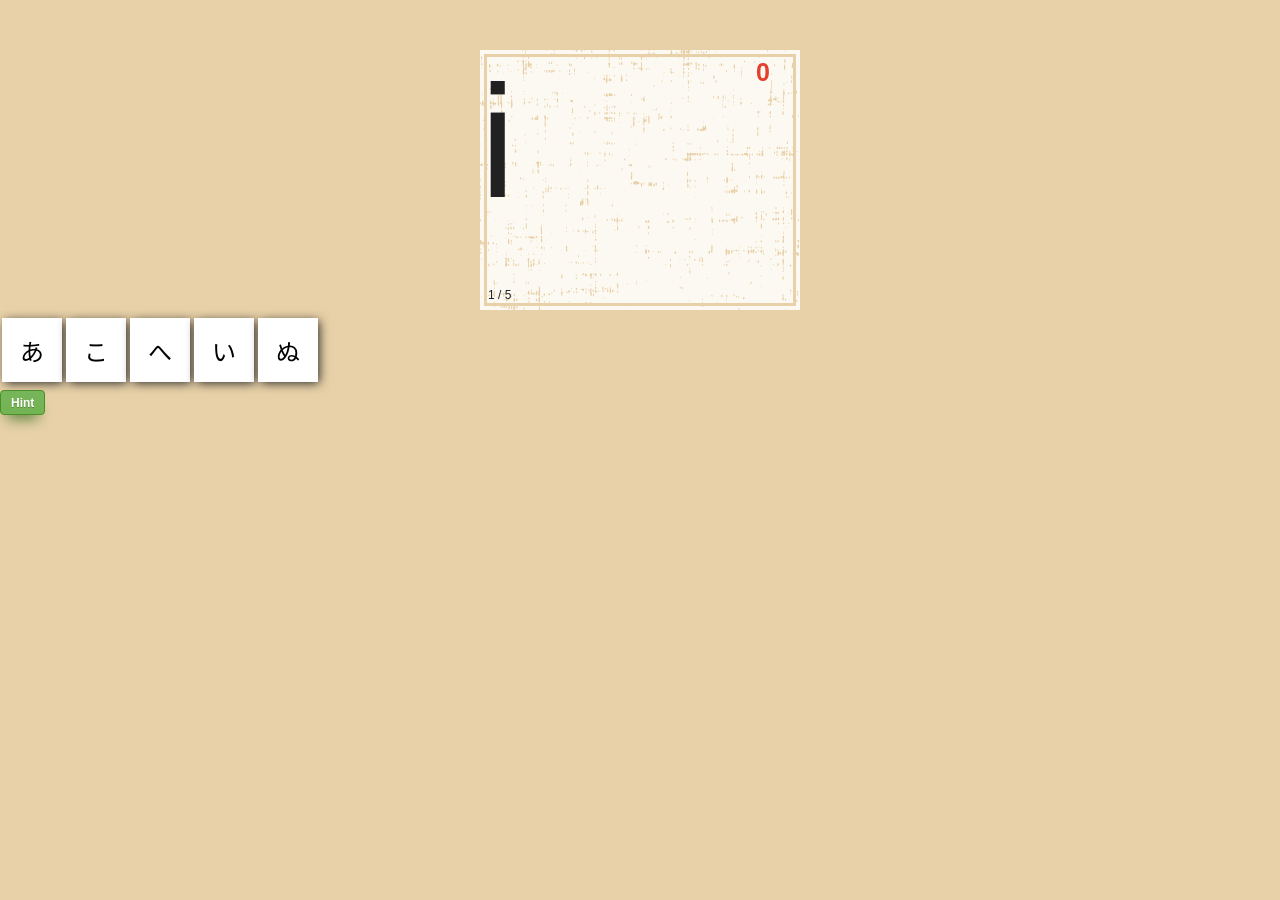
Test: Game page › reveals the correct answer after a wrong answer
Click the button "あ".
click(32, 350)  # box [2,318,62,382]
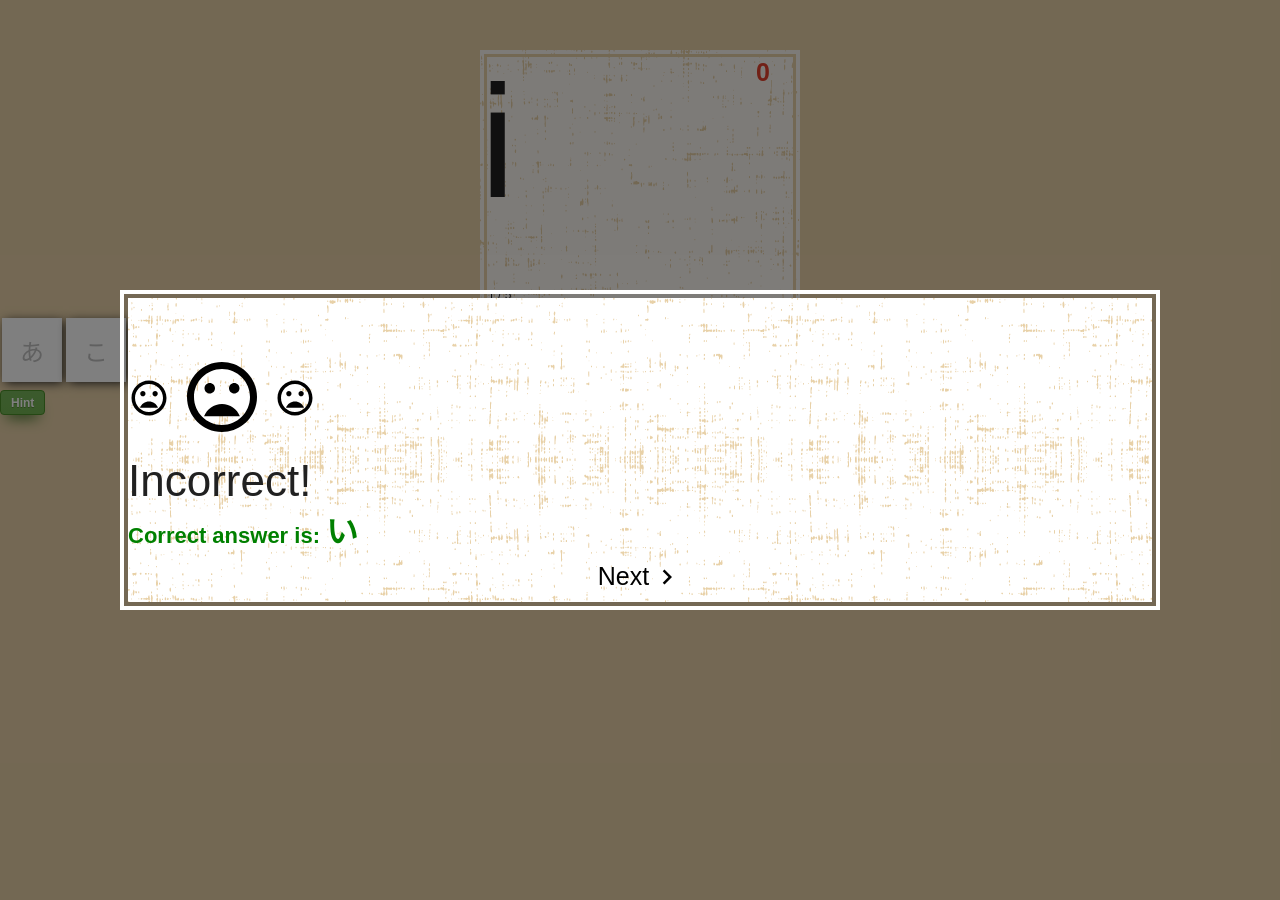
Expected: the text "Incorrect!" is shown, [128,456,311,505]
